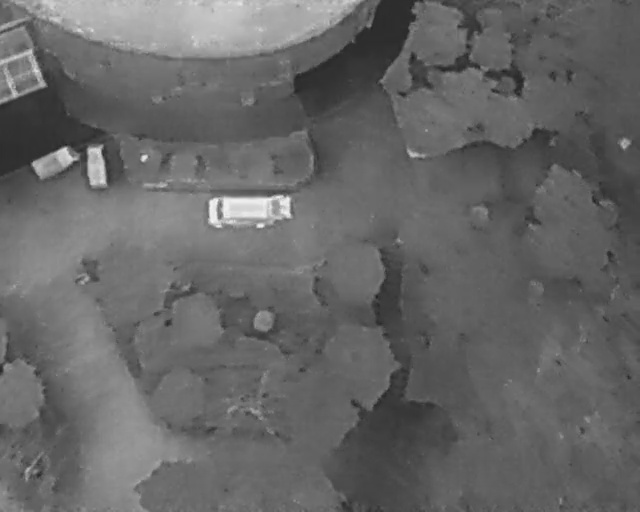Car: (205, 193, 295, 229), (29, 141, 82, 180), (83, 140, 107, 190)
